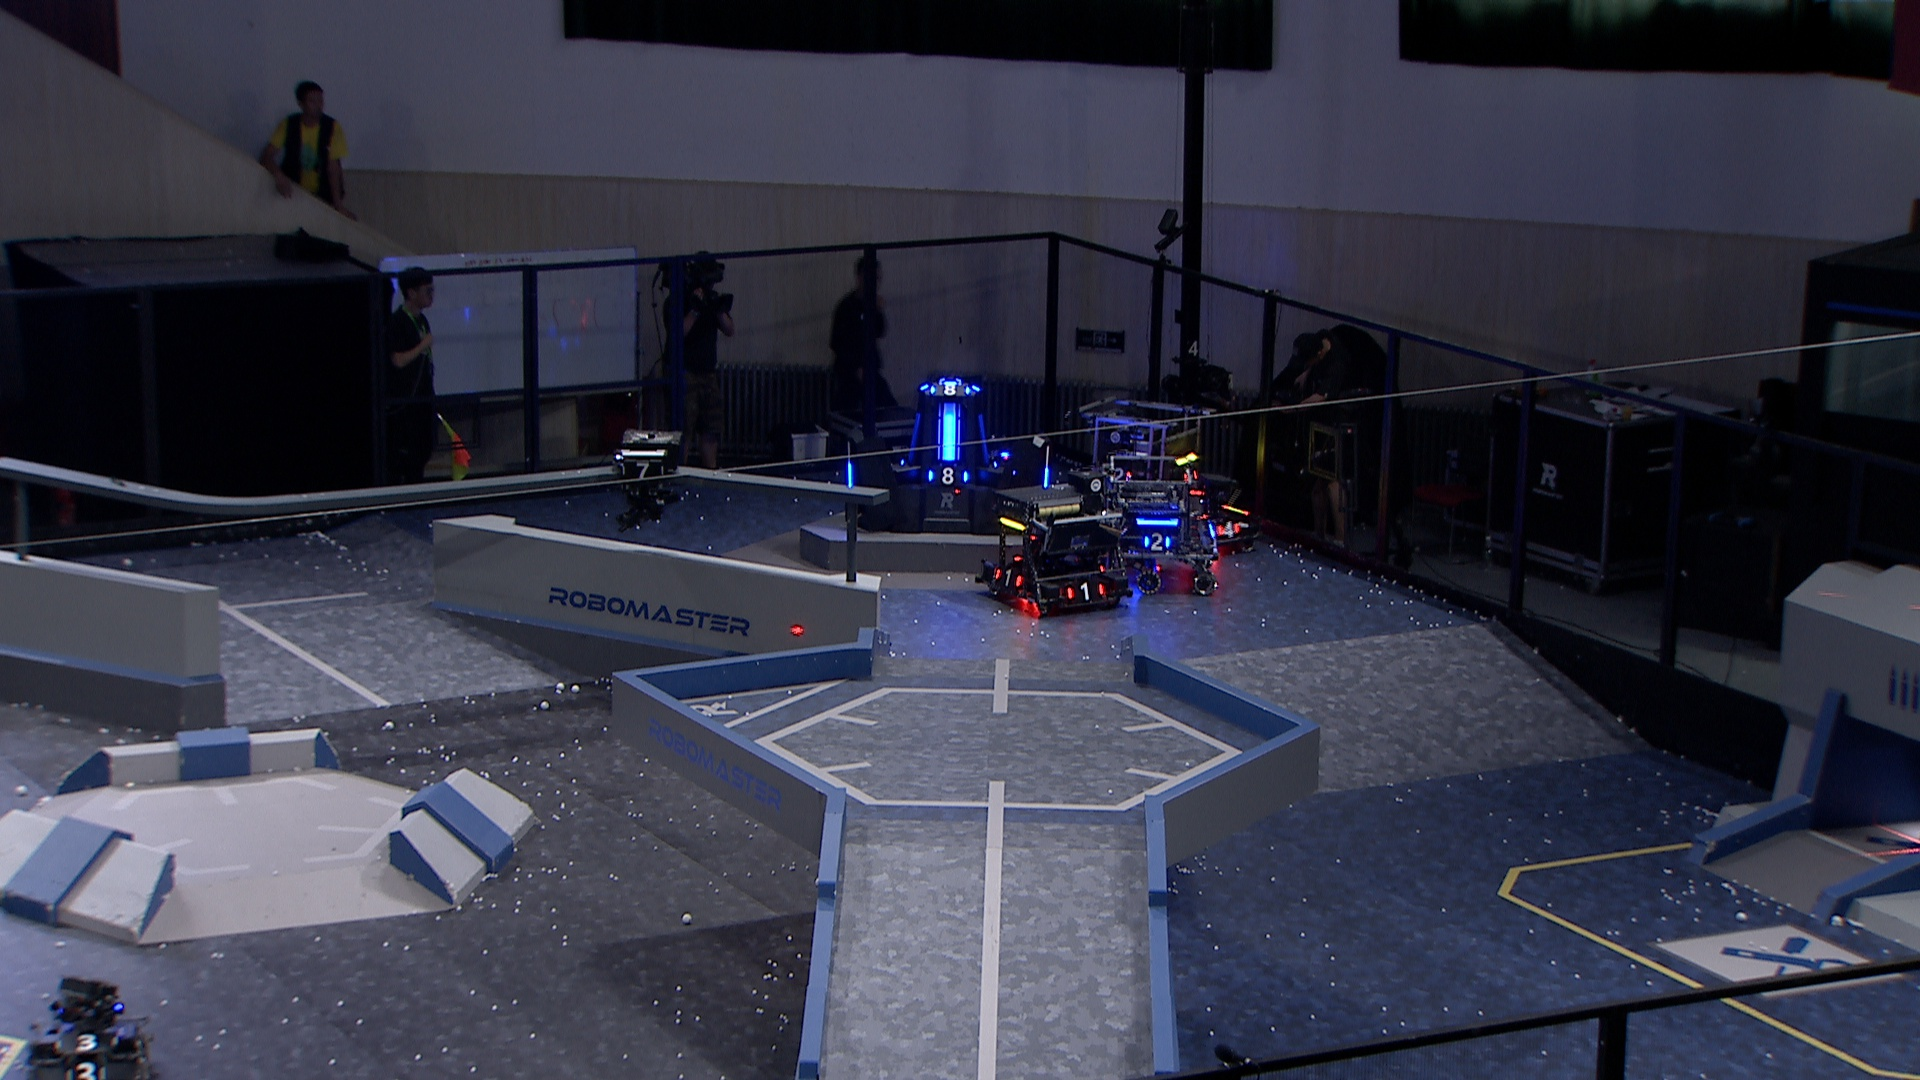armor: (54, 1033, 121, 1054), (618, 460, 666, 484), (923, 463, 972, 485), (939, 410, 960, 462), (65, 1058, 109, 1080), (905, 411, 922, 465), (1062, 580, 1106, 600), (975, 414, 992, 465), (926, 381, 971, 400), (1211, 517, 1242, 542), (993, 567, 1027, 589), (1139, 531, 1172, 553), (125, 1038, 148, 1067), (1105, 465, 1134, 487), (844, 460, 855, 489), (1040, 462, 1051, 491), (1182, 467, 1197, 485)
base: (839, 375, 1055, 541)
car: (975, 479, 1131, 618), (1077, 448, 1224, 597), (1076, 389, 1211, 526), (26, 975, 158, 1080), (1174, 471, 1259, 555)
watcher: (609, 425, 684, 531)
